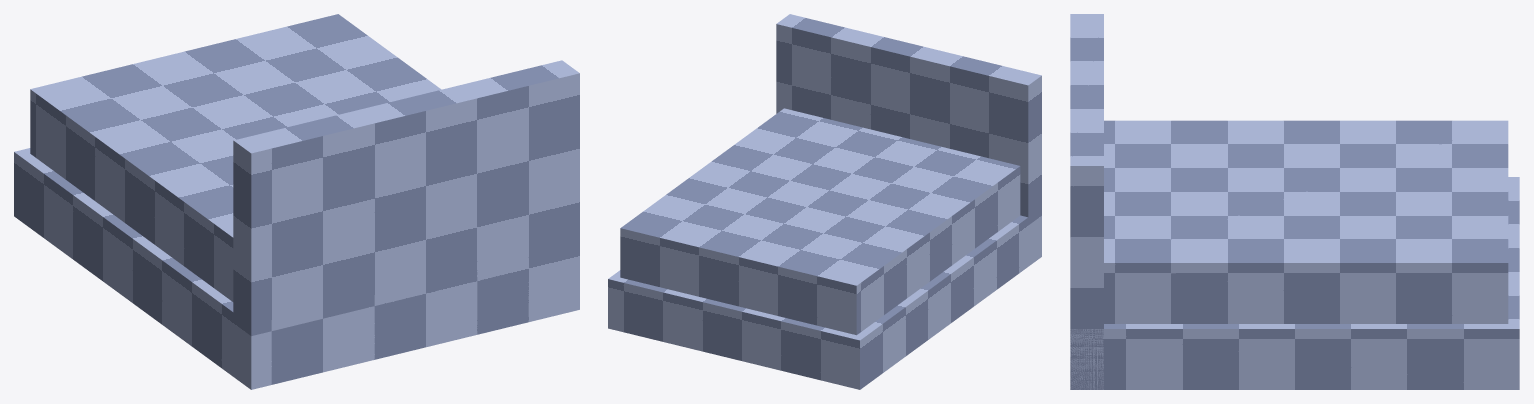
The model's file is raw_model.obj.
3 views of the same model, side by side, from view 1: azimuth 30°, elevation 25°; view 2: azimuth 150°, elevation 25°; view 3: azimuth 270°, elevation 25° (orthographic). The views are drawn at different scales.
Parts seen in each view (by area): view 1: bed; view 2: bed; view 3: bed.
Boxes of the visible parts, box(x1,y1,x2,y2) form: bed: box(14, 14, 579, 389); bed: box(608, 14, 1041, 389); bed: box(1070, 14, 1519, 389).
Size of the model in its own units: 1.6 by 1.1 by 2.
Materials: 1 (1 with a texture image).
